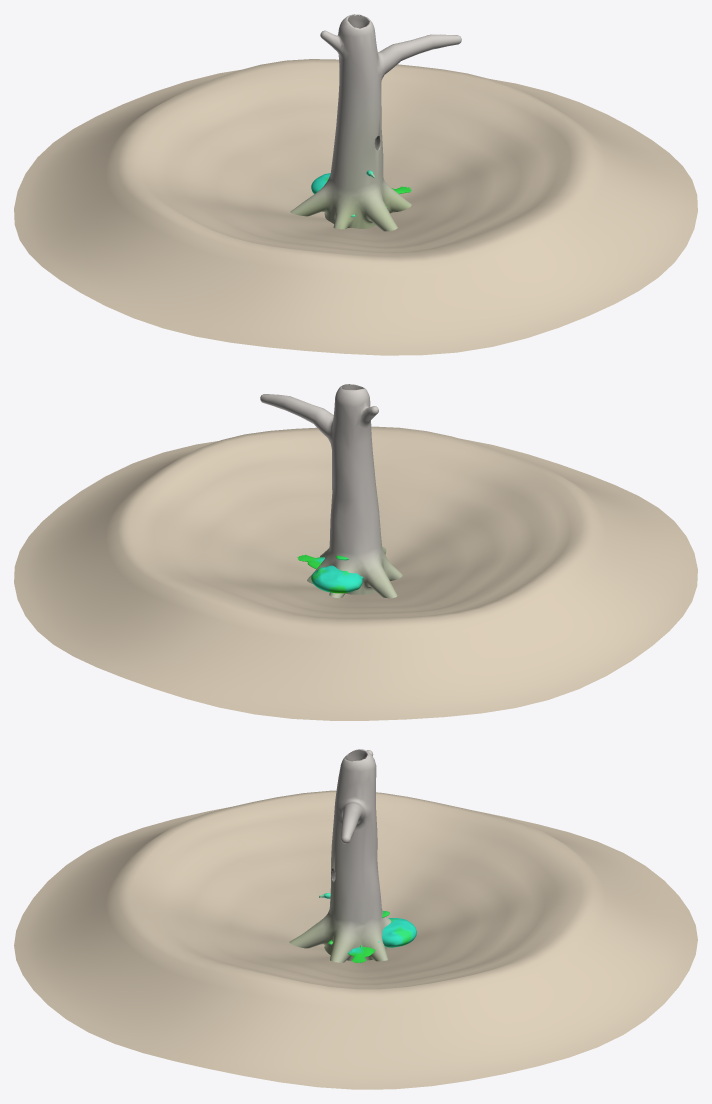
The model's file is oddities.glb.
The picture shows the model from 3 angles, top to bottom: view 1: azimuth 30°, elevation 25°; view 2: azimuth 150°, elevation 25°; view 3: azimuth 270°, elevation 25°; orthographic projection.
Parts seen in each view (by area): view 1: odd_antlion_pit, odd_nest_snag; view 2: odd_antlion_pit, odd_nest_snag, odd_antlion_head; view 3: odd_antlion_pit, odd_nest_snag, odd_antlion_head.
Boxes of the visible parts, left/top/right/bottom form: odd_antlion_pit: left=14, top=59, right=697, bottom=355; odd_nest_snag: left=290, top=14, right=461, bottom=231; odd_antlion_pit: left=14, top=426, right=697, bottom=720; odd_nest_snag: left=260, top=384, right=402, bottom=598; odd_antlion_head: left=311, top=565, right=364, bottom=593; odd_antlion_pit: left=14, top=790, right=697, bottom=1089; odd_nest_snag: left=289, top=749, right=391, bottom=962; odd_antlion_head: left=360, top=918, right=416, bottom=947.
Size of the model in its own units: 10.8 by 3.92 by 10.8.
